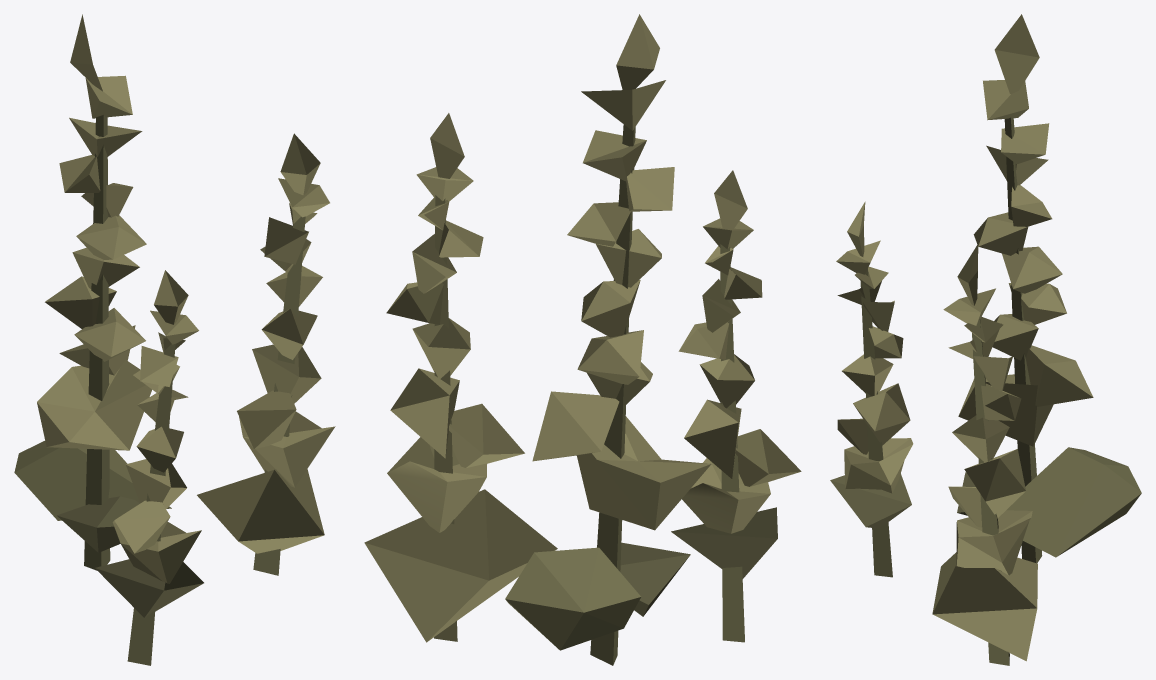
Rendered from SM_Env_Plant_Tall_01.glb.
3 renders of one model, left to right at view 1: azimuth 30°, elevation 25°; view 2: azimuth 150°, elevation 25°; view 3: azimuth 270°, elevation 25°, orthographic. The views are drawn at different scales.
Parts seen in each view (by area): view 1: SM_Env_Plant_Tall_01; view 2: SM_Env_Plant_Tall_01; view 3: SM_Env_Plant_Tall_01.
Part boxes in pixels (<box>): SM_Env_Plant_Tall_01: <box>14,14,335,665</box>; SM_Env_Plant_Tall_01: <box>364,14,801,665</box>; SM_Env_Plant_Tall_01: <box>830,14,1141,665</box>.
Bounding box in the file's own units: 0.8394 × 1.67 × 0.8329.
1 material, 1 textured.
